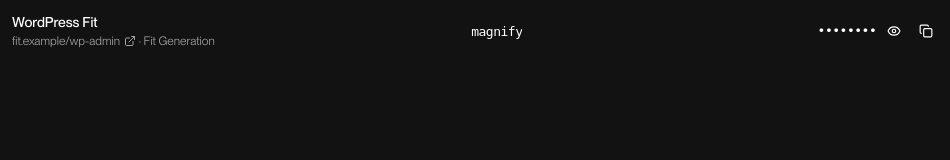
Test: lists without any secret and reveals it only on demand, then hides it again
Check: the text "WordPress Fit" is shown, box [12,14,98,30]
Check: the text "Fit Generation" is shown, box [144,34,215,48]
Click the button named "Ver contraseña de WordPress Fit": (894,30) [880,16,908,44]
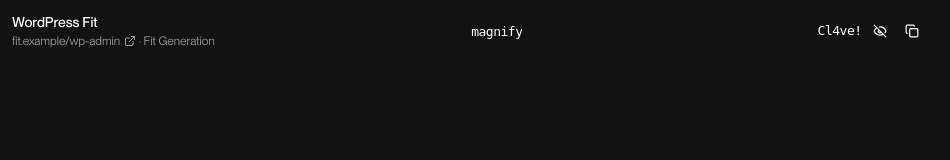
Check: the text with test id "secret-7" reads "Cl4ve!", box [818,23,862,38]
Click the button named "Ocultar contraseña de WordPress Fit": (880,30) [866,16,894,44]
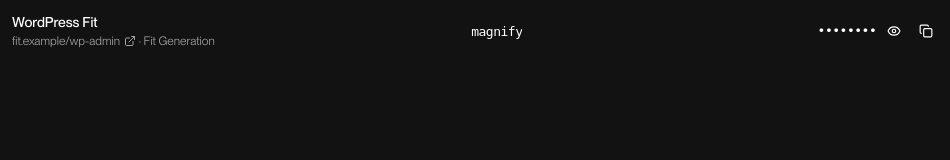
Check: the text with test id "secret-7" reads "••••••••", box [818,23,876,38]
